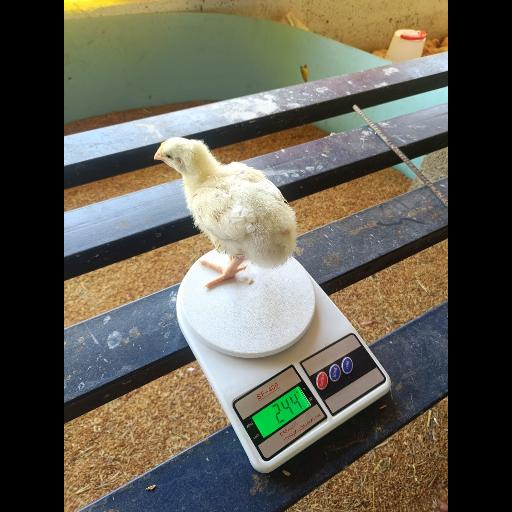chick: (155, 137, 298, 289)
